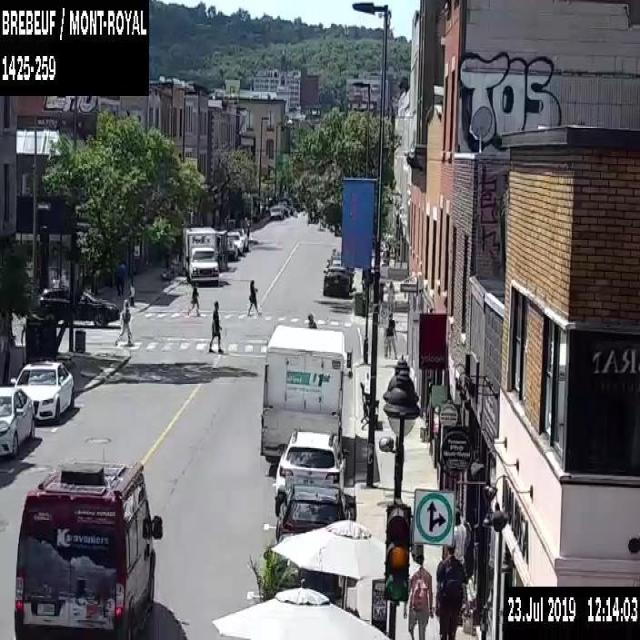pedestrian: (435, 538, 466, 638), (402, 546, 432, 638), (207, 298, 224, 354), (113, 299, 132, 348), (244, 279, 264, 316), (382, 311, 397, 358), (113, 255, 127, 297), (185, 284, 200, 317), (308, 312, 316, 325)
vehicle: (13, 454, 164, 638), (259, 320, 349, 462), (276, 430, 346, 494), (274, 484, 353, 540), (12, 359, 74, 422), (37, 287, 120, 329), (0, 387, 36, 457), (179, 226, 218, 280), (321, 266, 354, 296), (213, 228, 227, 269), (225, 228, 247, 249), (226, 230, 243, 253), (268, 204, 284, 220), (228, 243, 238, 260)
